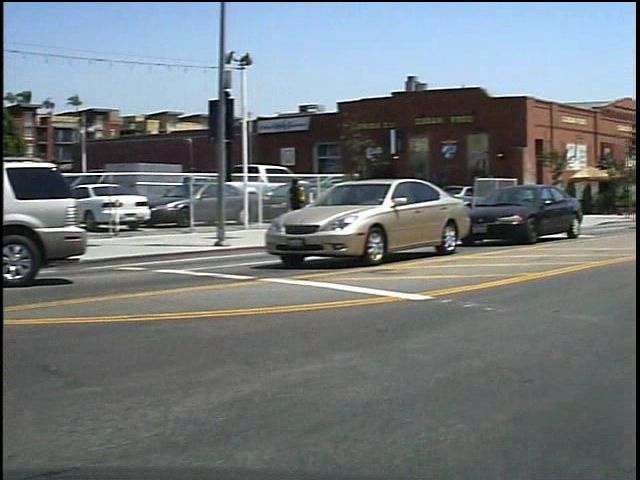person: (293, 172, 318, 233)
